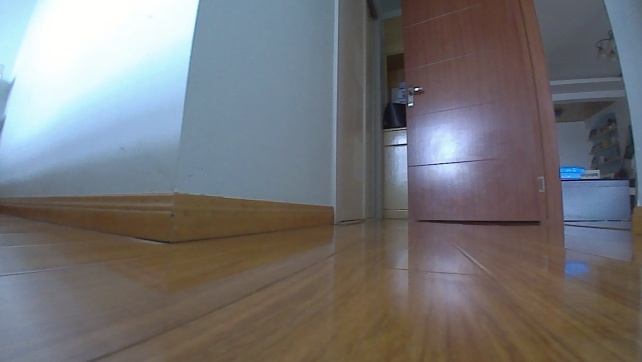door_anno: (399, 0, 564, 227)
